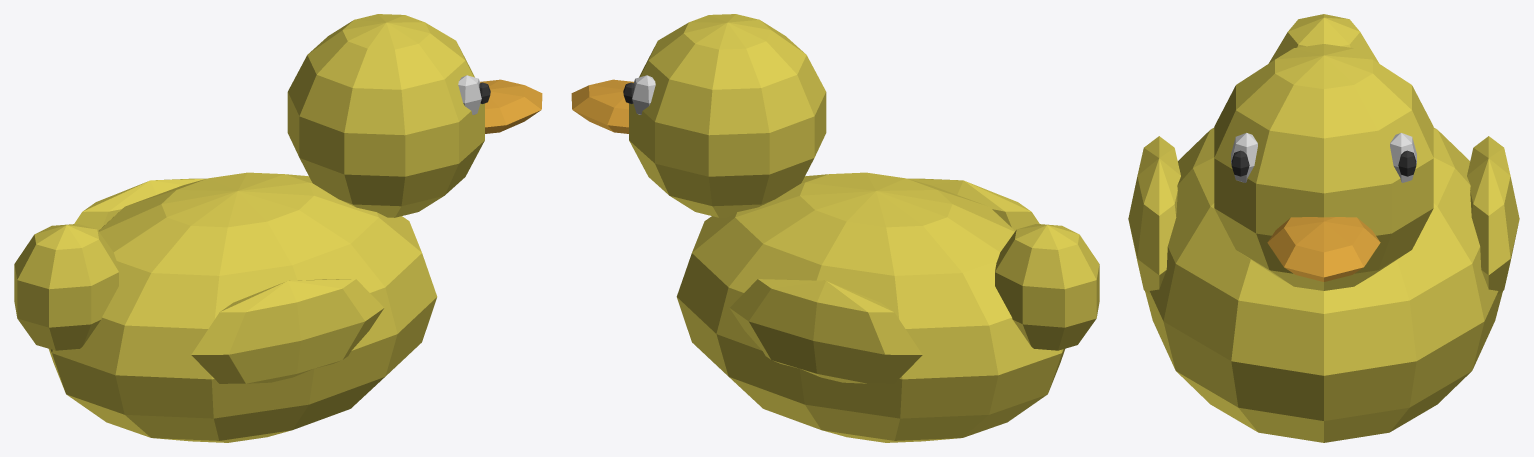
The model's file is rubber-duck.glb.
3 views of the same model, side by side, from view 1: azimuth 30°, elevation 25°; view 2: azimuth 150°, elevation 25°; view 3: azimuth 270°, elevation 25° (orthographic). The views are drawn at different scales.
Parts seen in each view (by area): view 1: rubber-duck; view 2: rubber-duck; view 3: rubber-duck.
Part boxes in pixels (x1,y1,x2,y2): rubber-duck: (14,14,542,442); rubber-duck: (571,14,1099,442); rubber-duck: (1128,14,1519,442).
Size of the model in its own units: 15 by 9.98 by 8.07.
